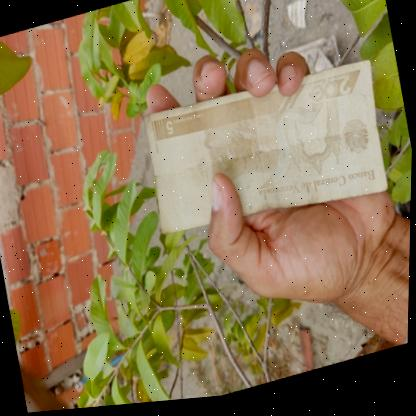five-back-vef: (138, 57, 396, 257)
